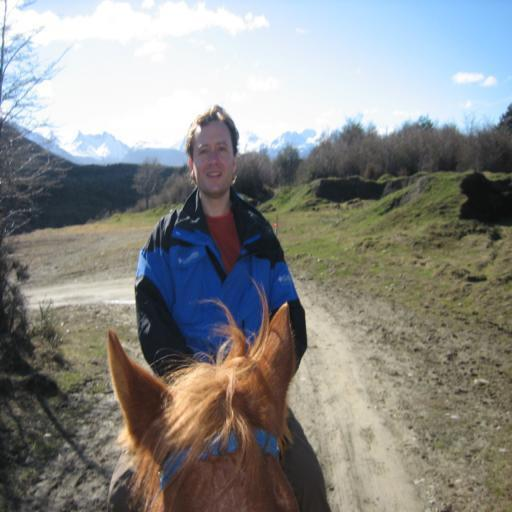horse: (106, 282, 295, 512)
